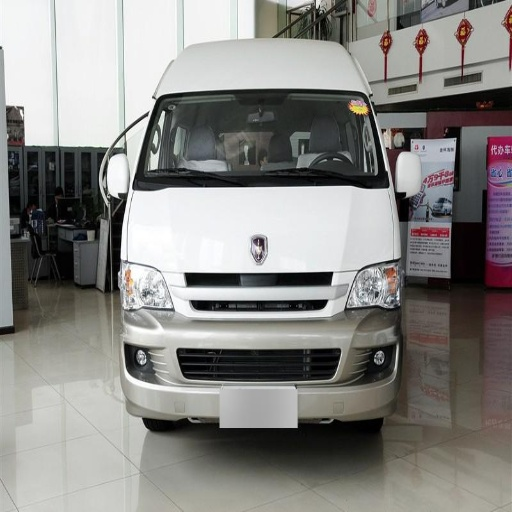front_bumper: (121, 269, 401, 427)
front_right_light: (117, 258, 170, 310)
hood: (128, 189, 396, 271)
